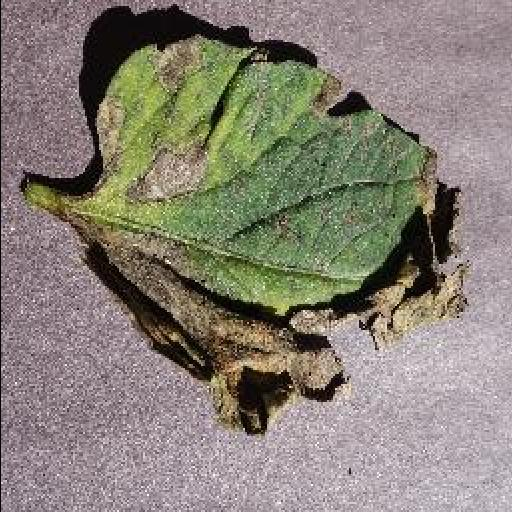disease_tomato: (90, 30, 472, 436)
